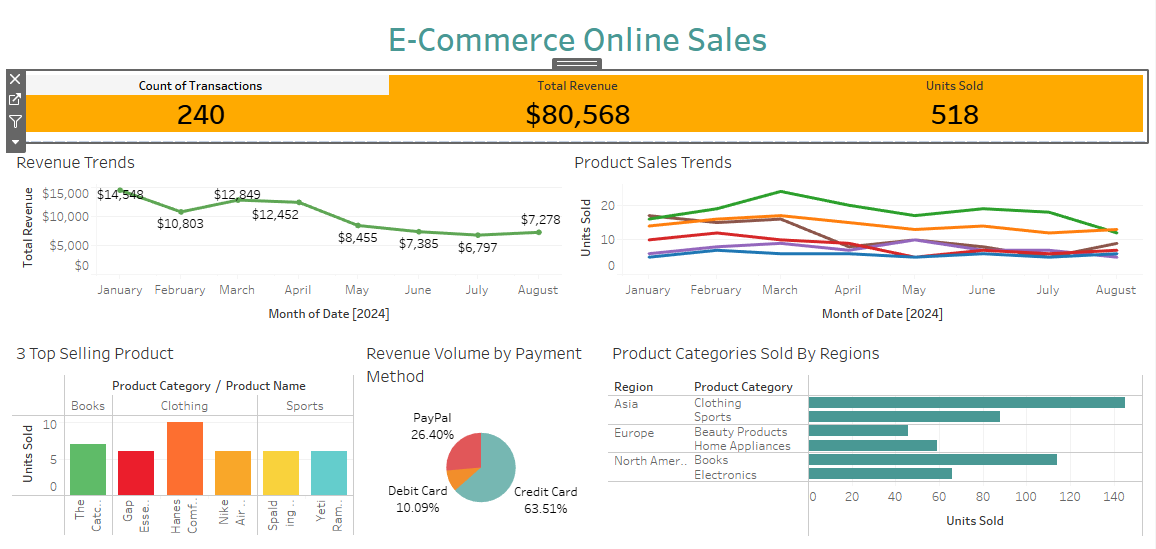

The dashboard page shown, as its layout file describes it:
{"tool":"tableau","page":{"name":"Dashboard 1","canvas":[1000,1000],"units":"permille","ordinal":0},"visuals":[{"type":"title","box":[6.9,14.5,986.1,119.6]},{"type":"worksheet","title":"Sheet 5","mark":"Automatic","box":[6.9,134.1,986.1,128.6]},{"type":"worksheet","title":"Sheet 1","mark":"Automatic","rows":["Total Revenue"],"cols":["Date"],"box":[6.9,262.7,483.1,346.8]},{"type":"worksheet","title":"Sheet 6","mark":"Automatic","rows":["Units Sold"],"cols":["Date"],"box":[490.1,262.7,503,346.8]},{"type":"worksheet","title":"Sheet 4","mark":"Automatic","rows":["Units Sold"],"cols":["Product Category","Product Name"],"box":[6.9,609.5,303,376]},{"type":"worksheet","title":"Sheet 3","mark":"Pie","box":[310,609.5,213,376]},{"type":"worksheet","title":"Sheet 2","mark":"Automatic","rows":["Region","Product Category"],"cols":["Units Sold"],"box":[522.9,609.5,470.1,376]}]}

Visuals, with their boxes on the dashboard's canvas, which has no fixed pixel size, in thousandths of its width and height (x1, y1, x2, y2). These are canvas units, not pixel positions in the 1156x549 screenshot, which may show the page scaled, cropped or inside an application window:
title: pyautogui.locateOnScreen(7, 14, 993, 134)
"Sheet 5" worksheet: pyautogui.locateOnScreen(7, 134, 993, 263)
"Sheet 1" worksheet: pyautogui.locateOnScreen(7, 263, 490, 610)
"Sheet 6" worksheet: pyautogui.locateOnScreen(490, 263, 993, 610)
"Sheet 4" worksheet: pyautogui.locateOnScreen(7, 610, 310, 986)
"Sheet 3" worksheet (Pie marks): pyautogui.locateOnScreen(310, 610, 523, 986)
"Sheet 2" worksheet: pyautogui.locateOnScreen(523, 610, 993, 986)
